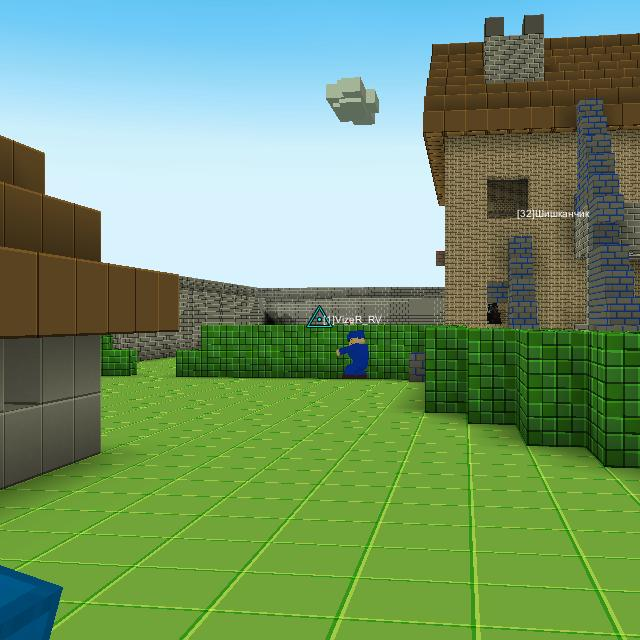enemy: (488, 303, 502, 324)
